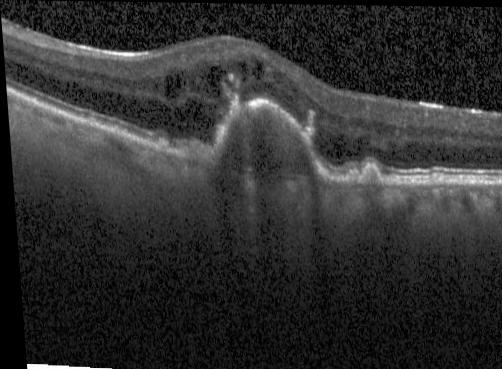intraretinal_cyst: (163, 66, 186, 100), (202, 65, 225, 96), (236, 60, 248, 81), (251, 60, 263, 79)
retinal_drusen: (216, 103, 310, 177), (177, 145, 200, 162), (358, 165, 378, 183), (345, 171, 357, 182), (154, 139, 165, 151)
